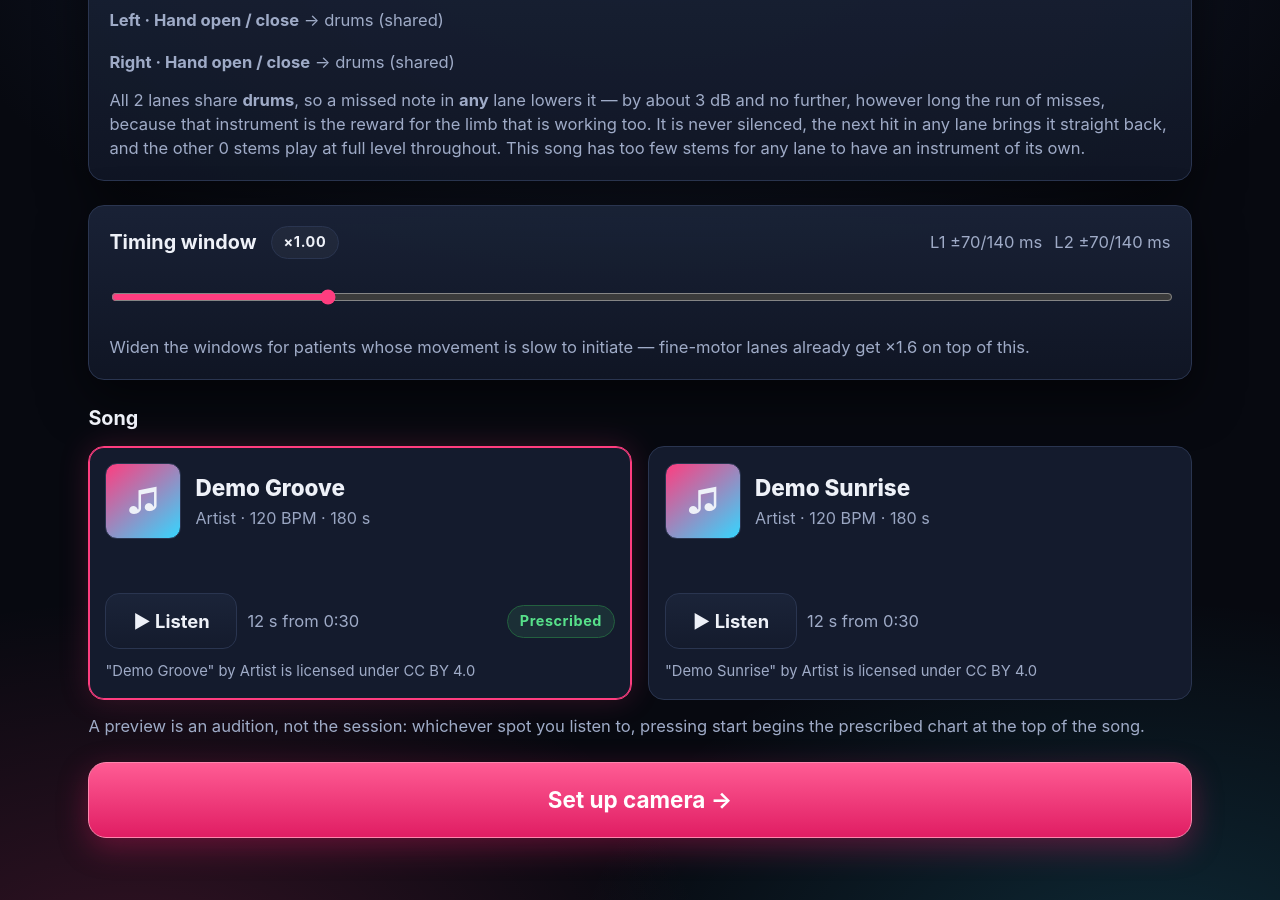
an audition says what it is costing › says out loud when it has fallen back to downloading the WHOLE song
(page scrolled)
Click the button with test id "preview-demo-sunrise" at (731, 622), box [665,594,797,650]
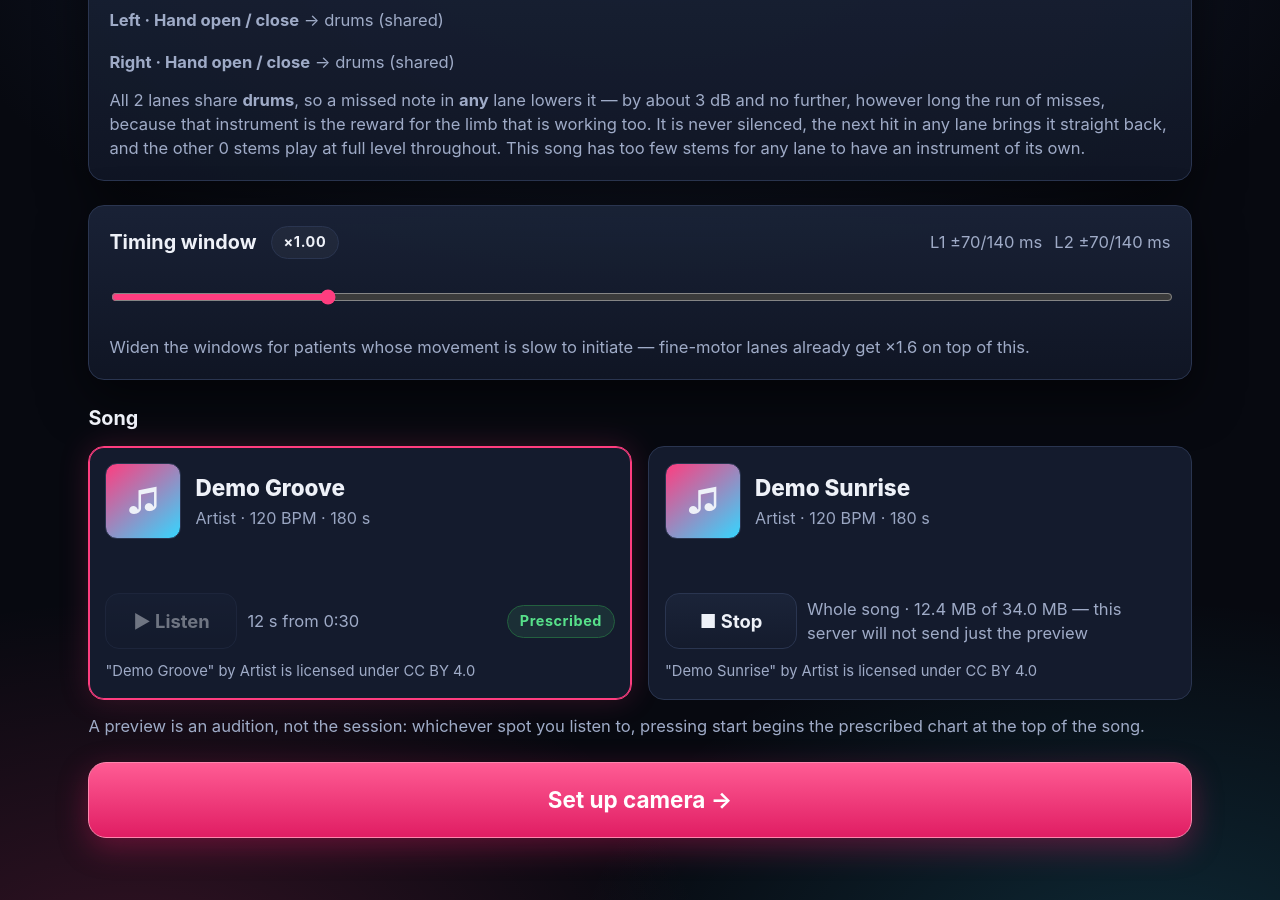
Check: the text with test id "preview-status-demo-sunrise" shows "Whole song", box [807,600,1121,644]
Check: the text with test id "preview-status-demo-sunrise" shows "12.4 MB of 34.0 MB", box [807,600,1121,644]
Check: the text with test id "preview-status-demo-sunrise" shows "will not send just the preview", box [807,600,1121,644]
